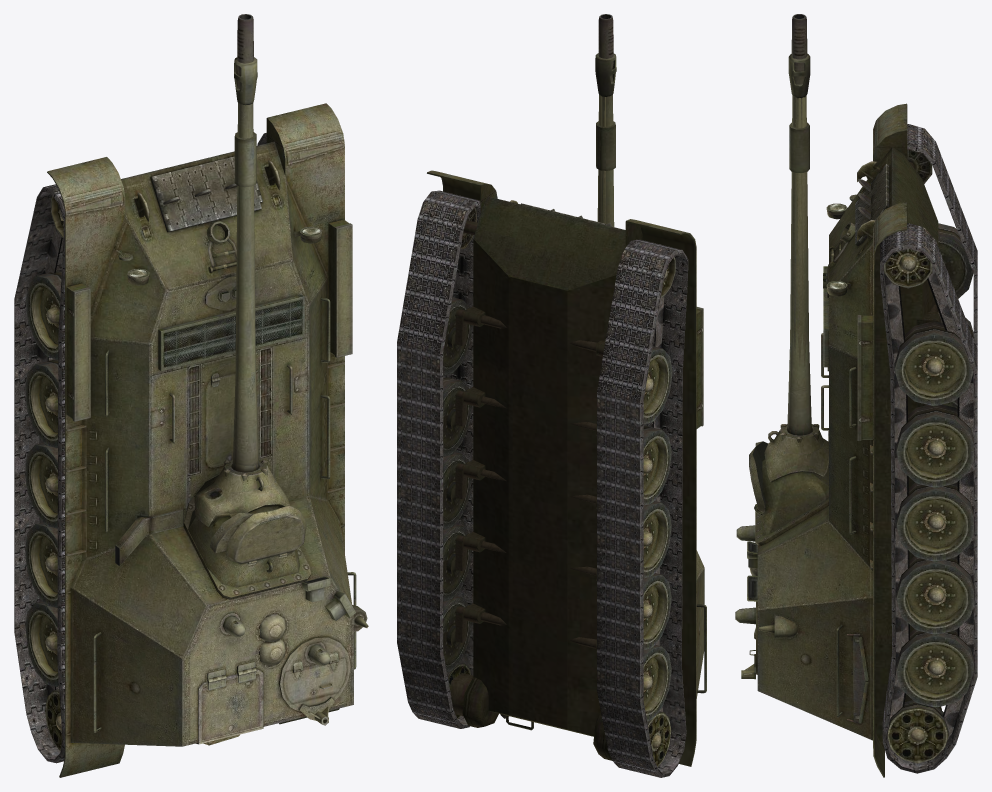
3 renders of one model, left to right at view 1: azimuth 30°, elevation 25°; view 2: azimuth 150°, elevation 25°; view 3: azimuth 270°, elevation 25°, orthographic. The views are drawn at different scales.
Visible parts, largest first — view 1: hull, chassis_track_L, gun_02, gun_03, chassis_wheel_L_02, chassis_wheel_L_03, chassis_wheel_L_04, chassis_wheel_L_05, chassis_wheel_L_06, gun_01, chassis_wheel_L_07; view 2: hull, chassis_track_L, chassis_track_R, chassis_wheel_L_03, chassis_wheel_L_04, chassis_wheel_L_05, chassis_wheel_L_06, gun_03, chassis_wheel_L_02, gun_02, chassis_wheel_R_03, chassis_wheel_R_04 (+5 smaller); view 3: hull, chassis_track_R, chassis_wheel_R_03, chassis_wheel_R_02, chassis_wheel_R_04, chassis_wheel_R_05, chassis_wheel_R_06, gun_03, gun_02, gun_01, chassis_wheel_R_07, chassis_track_L (+3 smaller).
Boxes of the visible parts, x1,y1,x2,y2 form: hull: (47, 103, 368, 777); chassis_track_L: (14, 184, 64, 763); gun_02: (209, 14, 289, 527); gun_03: (195, 57, 285, 519); chassis_wheel_L_02: (25, 270, 61, 359); chassis_wheel_L_03: (25, 359, 58, 447); chassis_wheel_L_04: (25, 442, 57, 528); chassis_wheel_L_05: (25, 522, 57, 607); chassis_wheel_L_06: (25, 601, 58, 686); gun_01: (194, 89, 282, 526); chassis_wheel_L_07: (45, 689, 62, 751); hull: (427, 170, 706, 766); chassis_track_L: (597, 239, 688, 777); chassis_track_R: (397, 190, 480, 728); chassis_wheel_L_03: (643, 425, 671, 505); chassis_wheel_L_04: (643, 501, 671, 578); chassis_wheel_L_05: (643, 573, 671, 649); chassis_wheel_L_06: (643, 644, 671, 720); gun_03: (595, 53, 616, 170); chassis_wheel_L_02: (643, 346, 672, 424); gun_02: (598, 14, 614, 226); chassis_wheel_R_03: (443, 376, 471, 456); chassis_wheel_R_04: (443, 452, 471, 529); hull: (735, 103, 941, 777); chassis_track_R: (880, 223, 977, 773); chassis_wheel_R_03: (896, 404, 973, 487); chassis_wheel_R_02: (894, 321, 973, 406); chassis_wheel_R_04: (896, 482, 973, 561); chassis_wheel_R_05: (896, 556, 973, 634); chassis_wheel_R_06: (896, 629, 973, 707); gun_03: (771, 53, 828, 464); gun_02: (764, 14, 828, 482); gun_01: (765, 84, 828, 449); chassis_wheel_R_07: (887, 700, 948, 763); chassis_track_L: (907, 124, 977, 349).
Bounding box in the file's own units: 2.96 × 7.7 × 2.42.
Materials: 2 (2 with a texture image).
